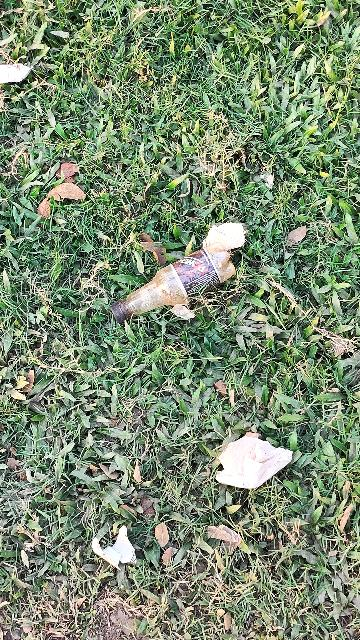bottle: (98, 219, 255, 346)
